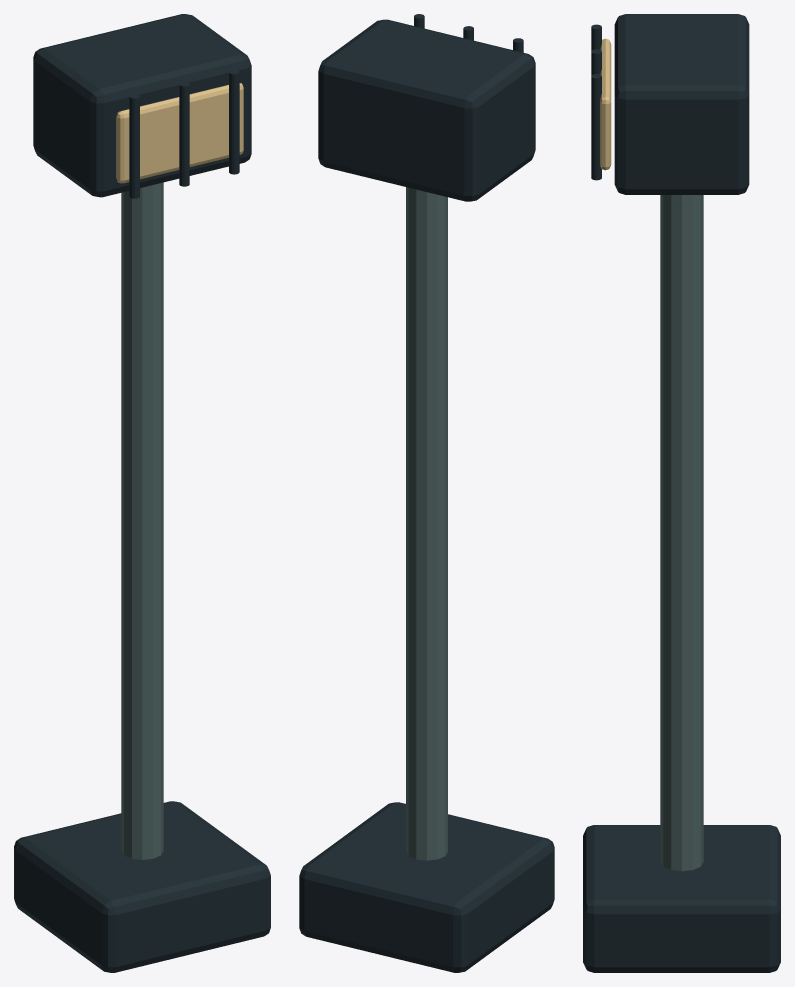
The model's file is lamp.glb.
The picture shows the model from 3 angles, left to right: view 1: azimuth 30°, elevation 25°; view 2: azimuth 150°, elevation 25°; view 3: azimuth 270°, elevation 25°; orthographic projection. The views are drawn at different scales.
Parts seen in each view (by area): view 1: lamp; view 2: lamp; view 3: lamp.
Boxes of the visible parts, bbox=[...] form: lamp: bbox=[14, 14, 270, 972]; lamp: bbox=[299, 14, 554, 972]; lamp: bbox=[583, 14, 780, 972].
Size of the model in its own units: 0.44 by 2.17 by 0.44.
